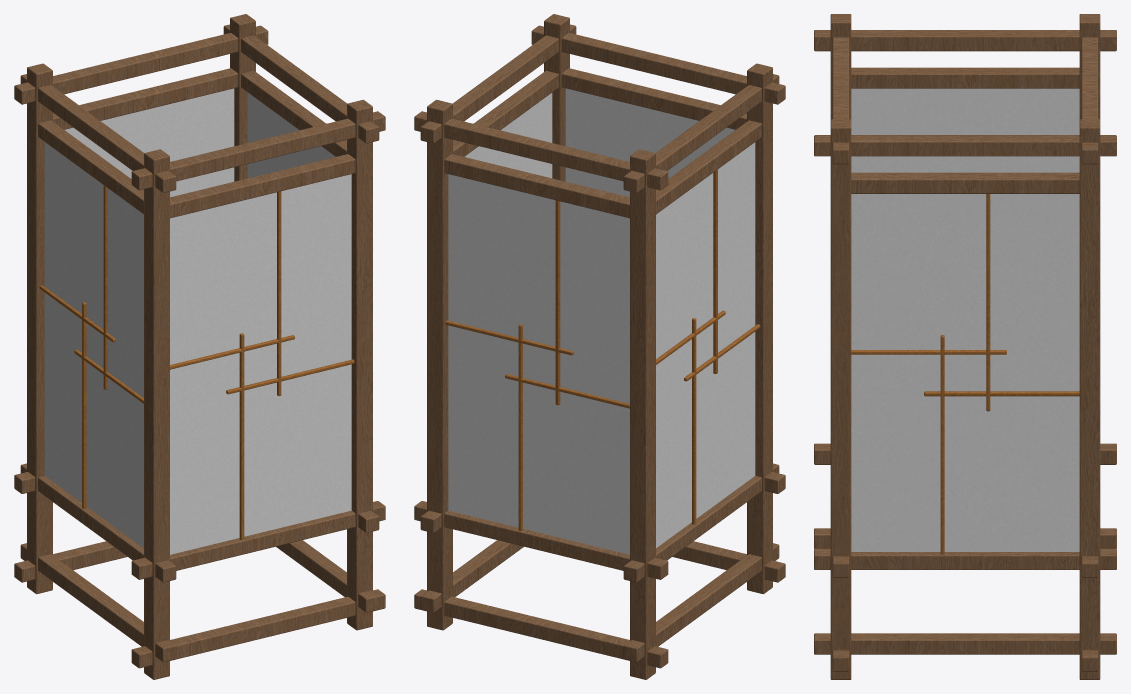
File: lamp.fbx
The picture shows the model from 3 angles, left to right: view 1: azimuth 30°, elevation 25°; view 2: azimuth 150°, elevation 25°; view 3: azimuth 270°, elevation 25°; orthographic projection. The views are drawn at different scales.
Parts seen in each view (by area): view 1: lamp; view 2: lamp; view 3: lamp.
Boxes of the visible parts, box(x1,y1,x2,y2) form: lamp: box(14, 14, 385, 679); lamp: box(414, 14, 785, 679); lamp: box(814, 14, 1116, 679).
Bounding box in the file's own units: 146 × 294 × 146.
3 materials, 3 textured.
